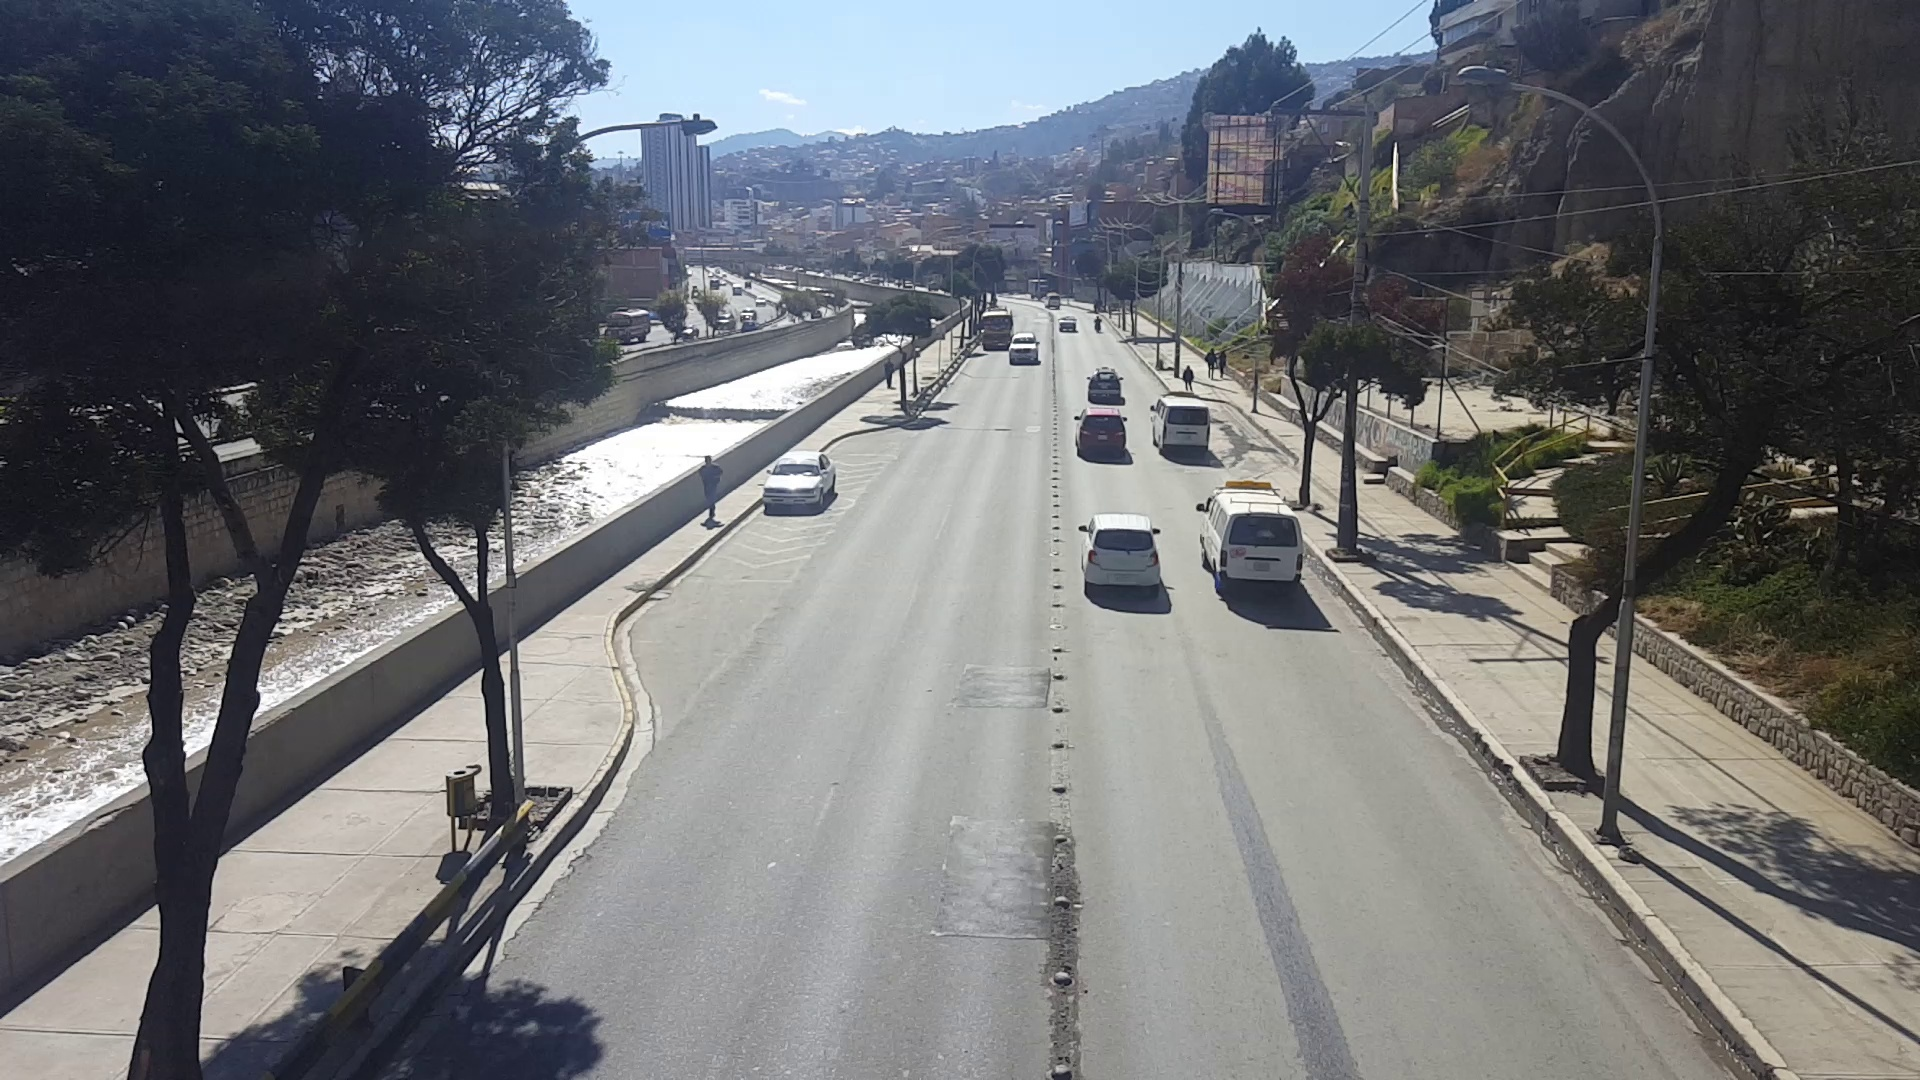automovil: (1077, 512, 1164, 595), (1071, 407, 1131, 458)
minibus: (1197, 480, 1303, 589), (1149, 386, 1212, 458)
